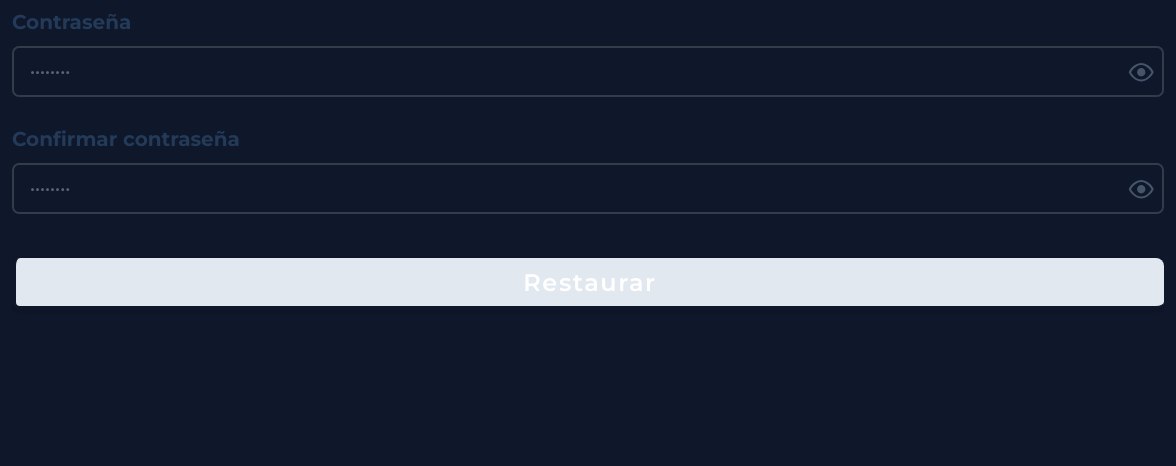
Test: RestorePasswordForm - Component Unit Tests › Form Submissions & Interaction Flow › should render global failure alerts and display the redirection shortcut fallback on rejection
Type "123" into the password field labelled "Contraseña" at x=568, y=72, box [14,48,1121,95]
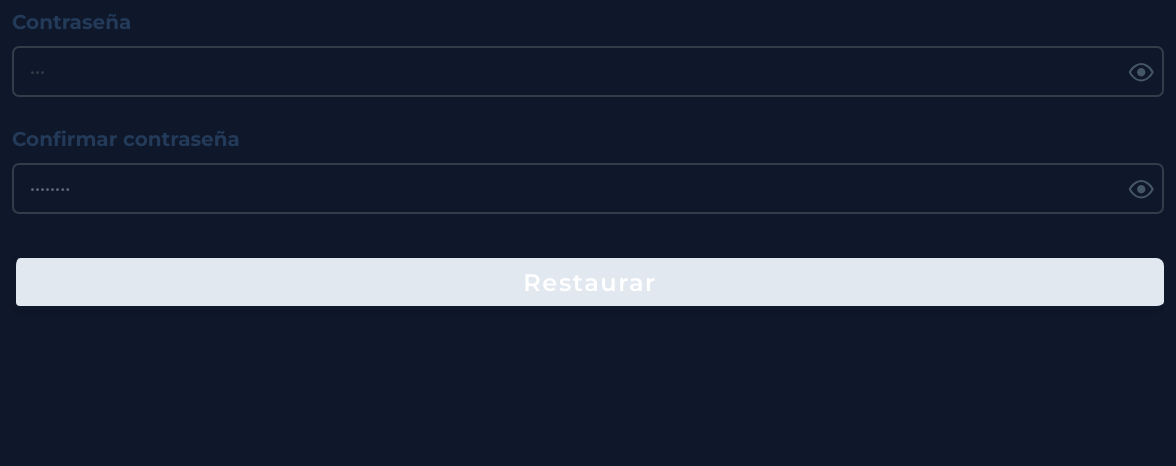
Click the button "Restaurar" at x=588, y=284, box [12,258,1164,310]
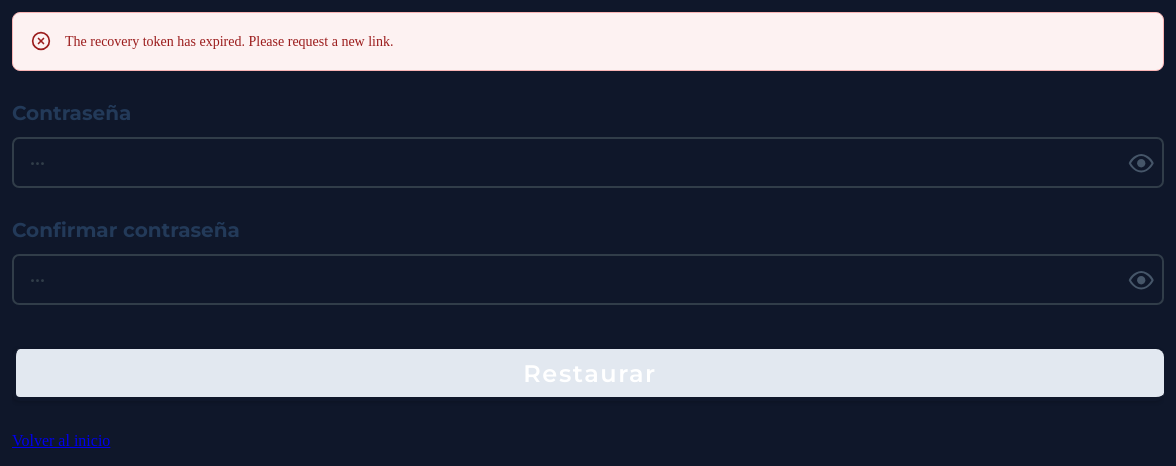
Check: the text "The recovery token has expired. Please request a new link." is shown, box [65,31,394,52]
Check: the link "Volver al inicio" is shown, box [12,432,110,449]
